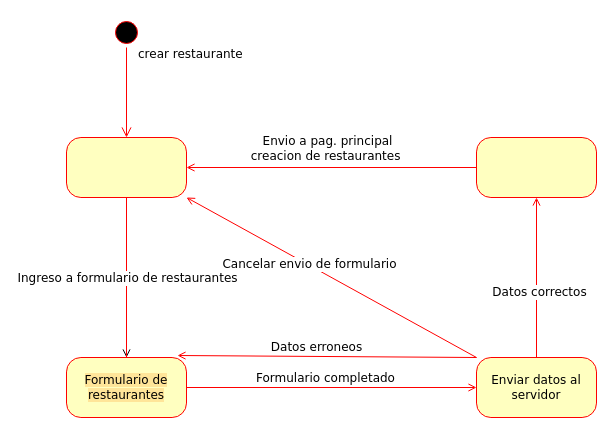
The diagram is 614 pixels wide and 435 high, and some of its shapes have lost their labels. The centre of each missing label's shape, as x and y in pixels:
Se registra nuevo restaurante: the point at 536,167
Solicitud crear nuevo restaurante: the point at 126,167
